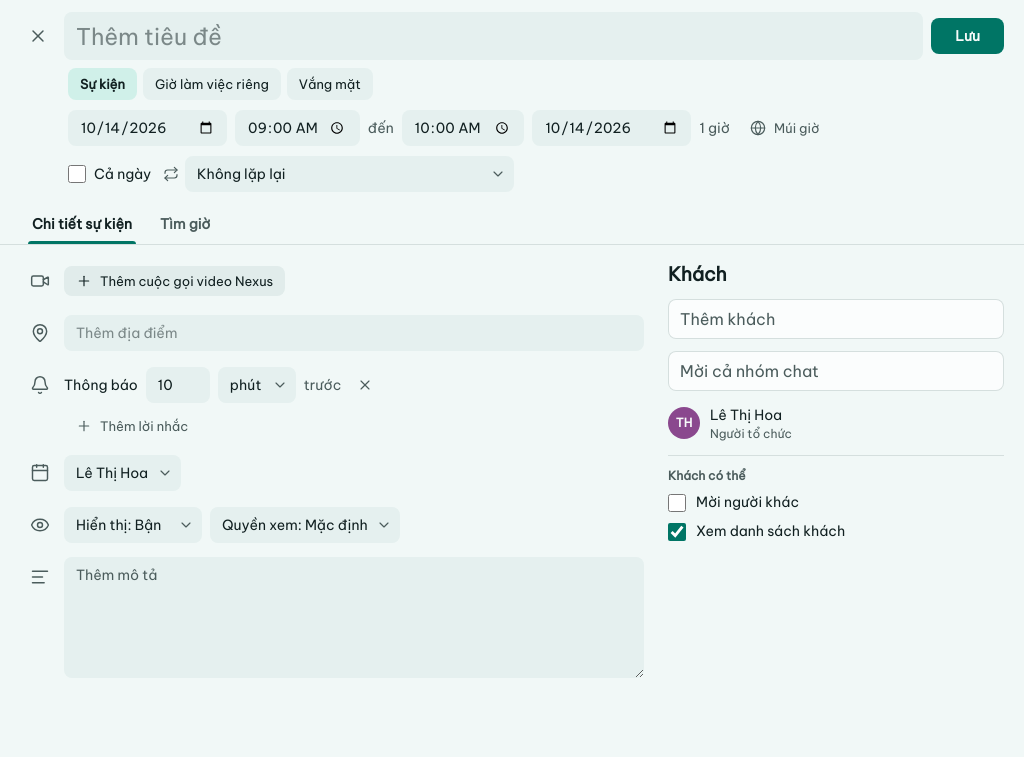
Test: Tìm giờ › draws a column for each person with the clash flagged, and the chosen time as a band
This screenshot has width=1024, height=757.
Type "Yến" into the dropdown labelled "Thêm khách" at [836, 319], box [680,305,992,333]
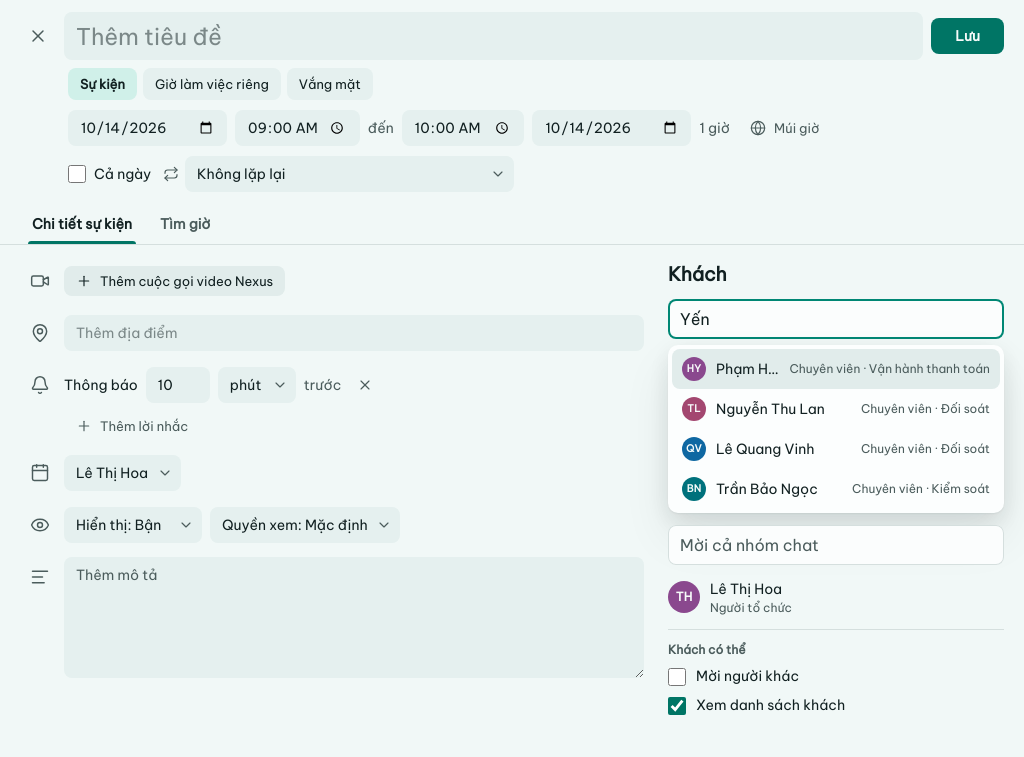
Click the option "HY Phạm Hải Yến Chuyên viên · Vận hành thanh toán" at [836, 369], box [672,349,1000,389]
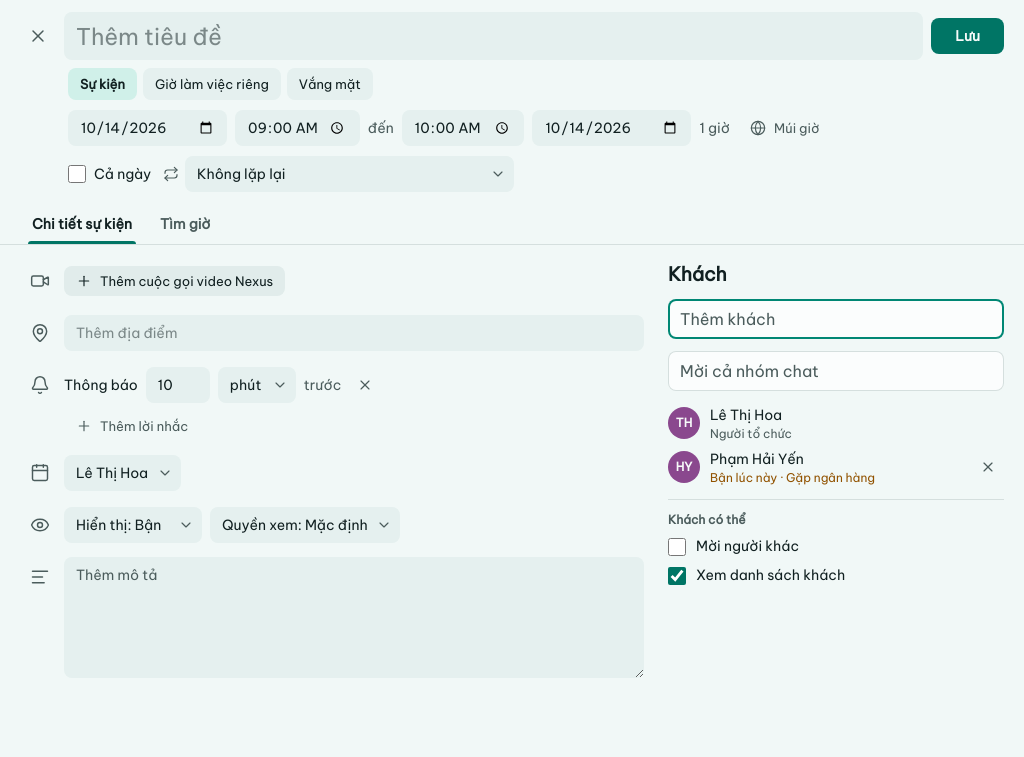
Click the tab "Tìm giờ" at [185, 224], box [148,204,222,244]
(page scrolled)
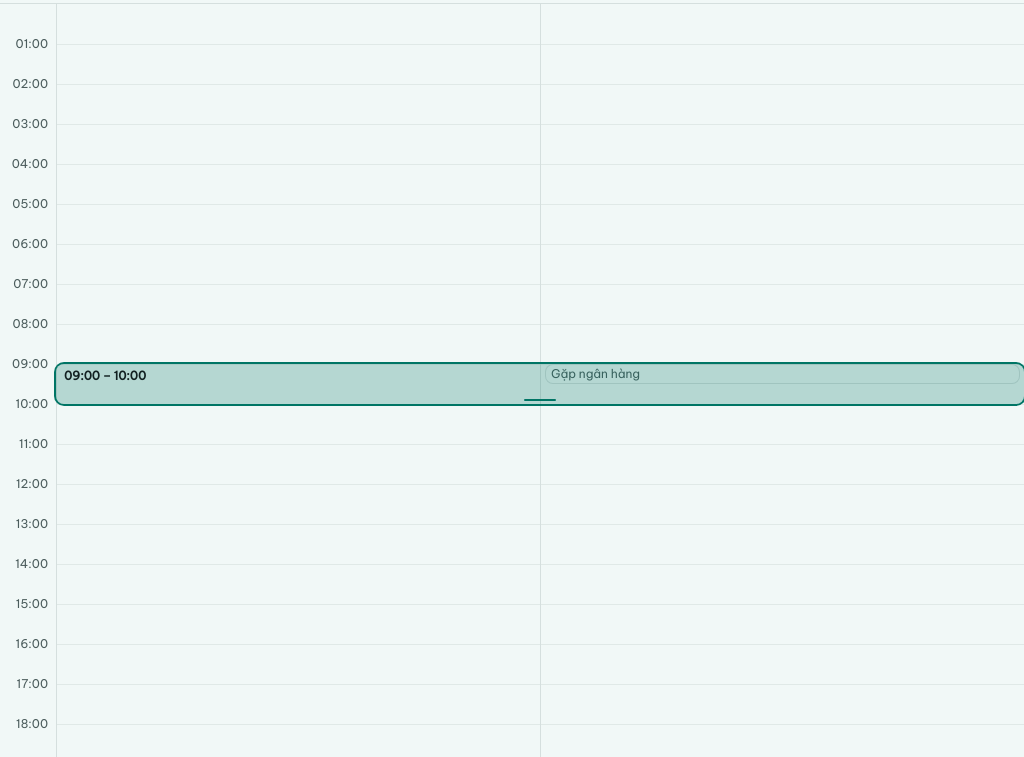
Expected: the text "Gặp ngân hàng" is shown, [545,364,1020,384]
Expected: the slider named "Khoảng giờ đã chọn, 09:00 đến 10:00" is shown, [56,364,1023,404]
